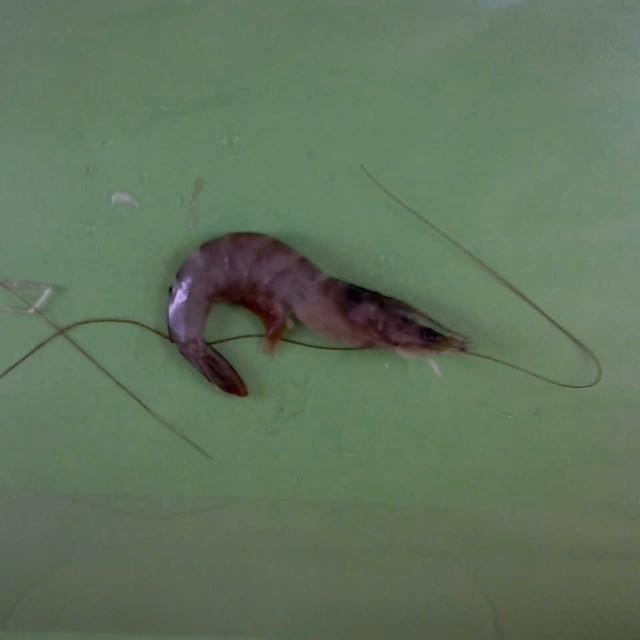shrimp: (168, 233, 467, 396)
